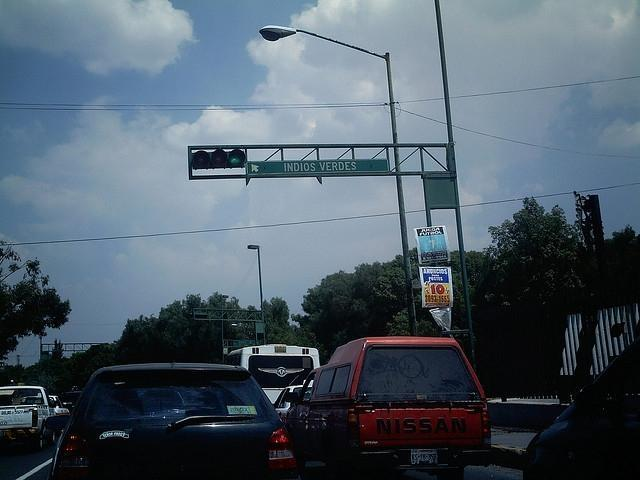bus: (227, 344, 321, 404)
car: (48, 362, 313, 480), (521, 333, 640, 473), (272, 385, 304, 421), (58, 390, 83, 416), (46, 396, 64, 416)
truck: (280, 334, 492, 480), (1, 386, 59, 450)
